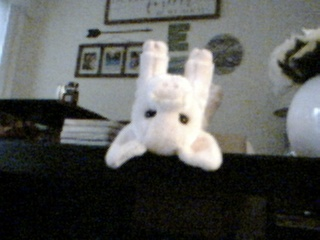piggy: (102, 38, 226, 174)
